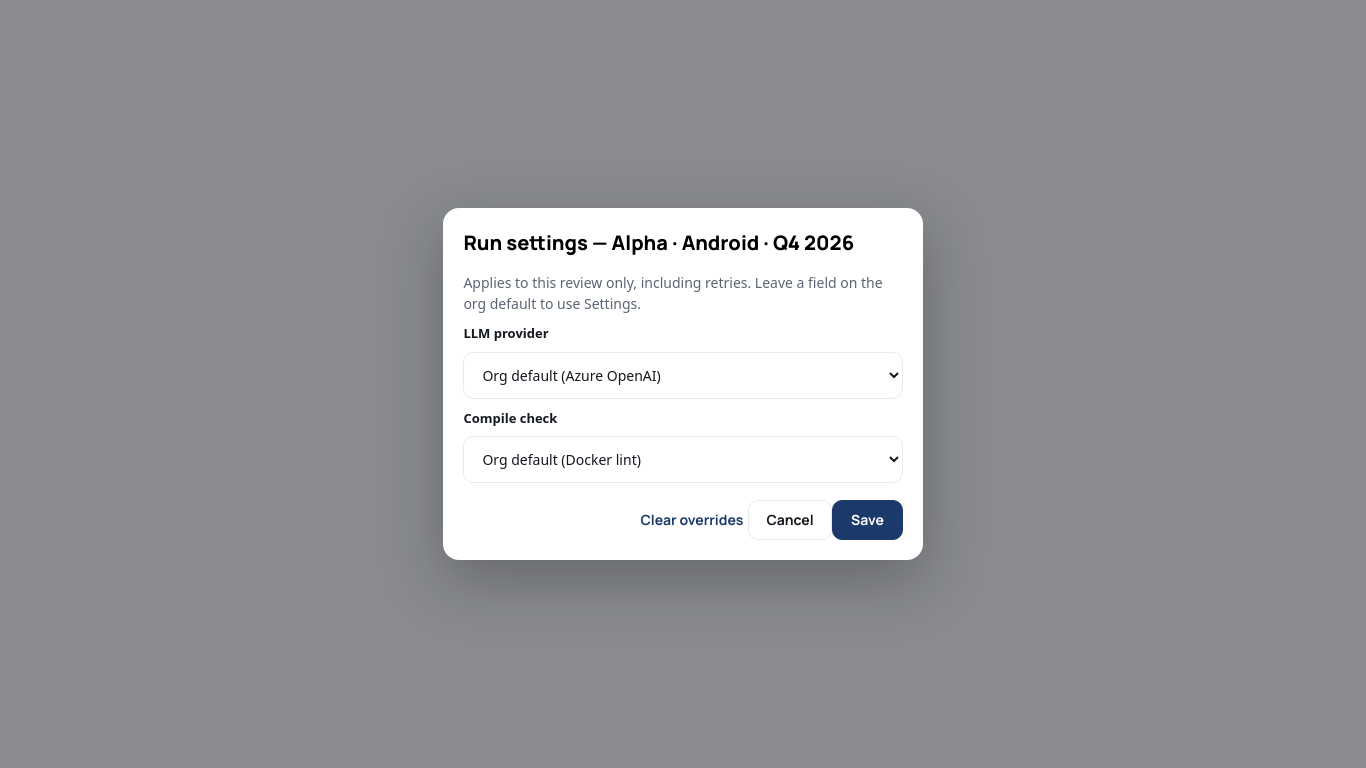
Test case: shows API errors
Click the button "Save" at (868, 520), box [832, 500, 903, 540]
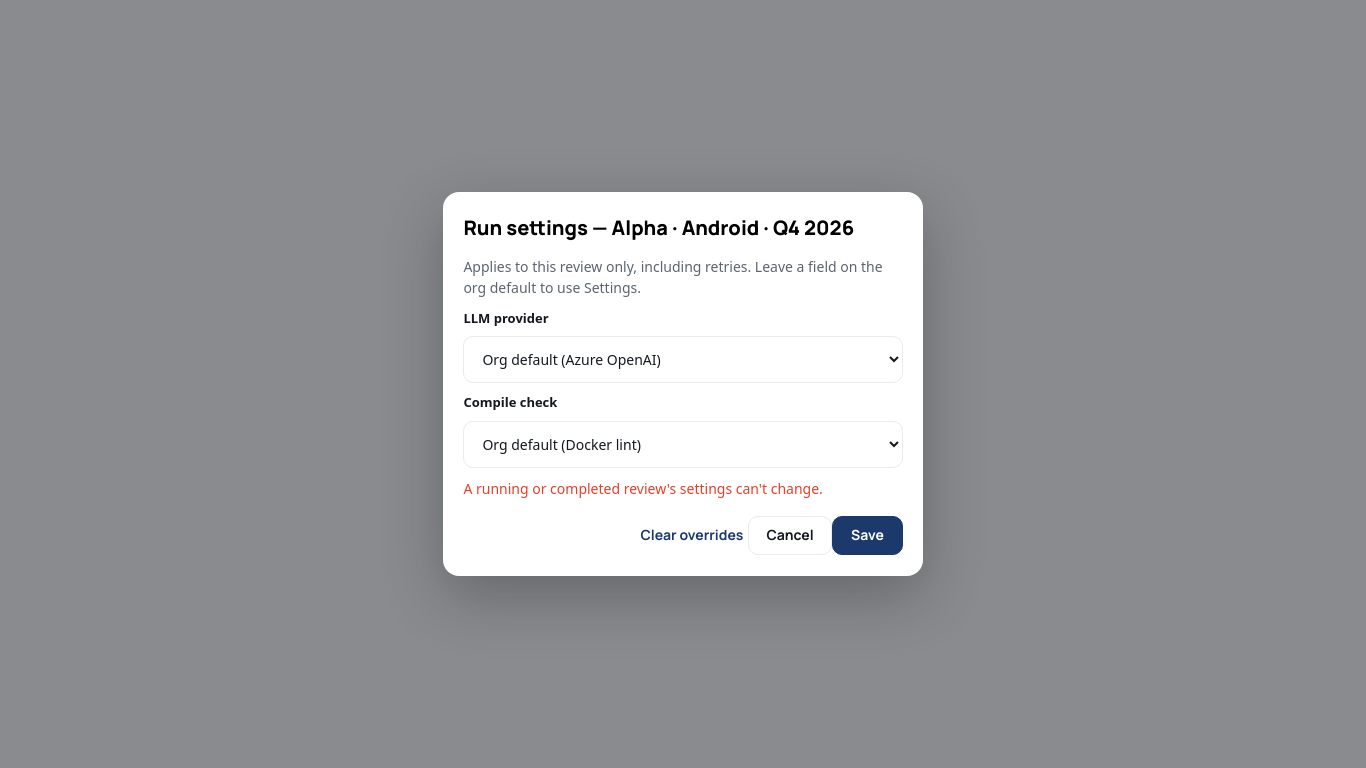
expect the text "A running or completed review's settings can't change." is shown: met, box [463, 479, 823, 498]
